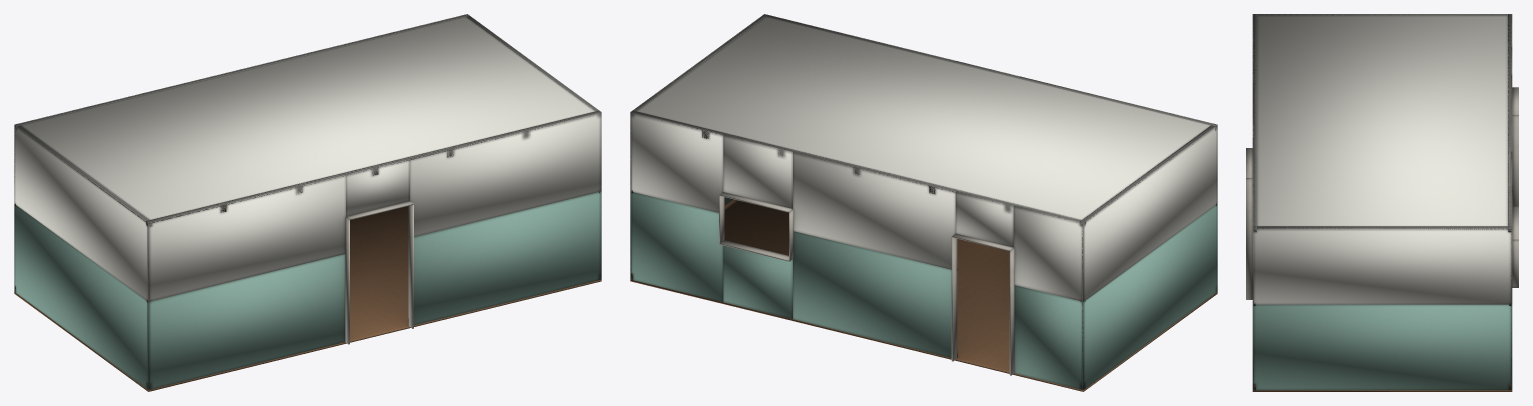
Rendered from house_int_radio.glb.
3 renders of one model, left to right at view 1: azimuth 30°, elevation 25°; view 2: azimuth 150°, elevation 25°; view 3: azimuth 270°, elevation 25°, orthographic. The views are drawn at different scales.
Parts seen in each view (by area): view 1: house_int_radio; view 2: house_int_radio; view 3: house_int_radio.
Boxes of the visible parts, bbox=[...] form: house_int_radio: bbox=[14, 14, 601, 391]; house_int_radio: bbox=[630, 14, 1217, 391]; house_int_radio: bbox=[1246, 14, 1518, 391].
Size of the model in its own units: 7.8 by 2.78 by 4.2.
1 material, 1 textured.
